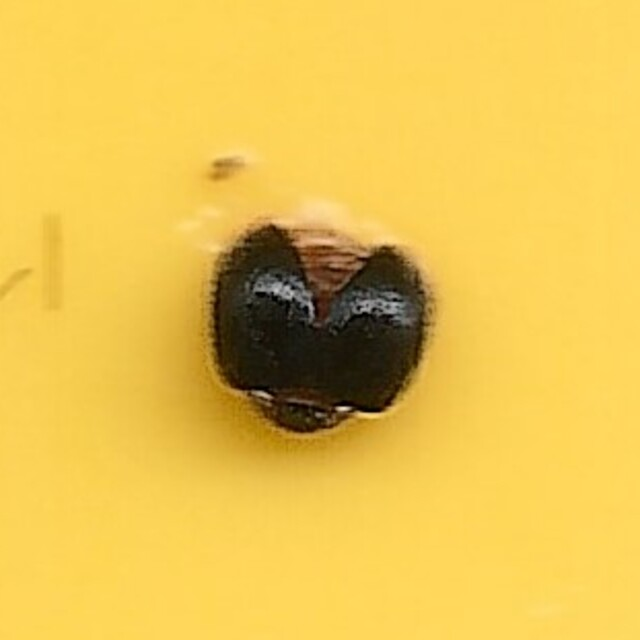Coleoptera: (206, 201, 434, 439)
